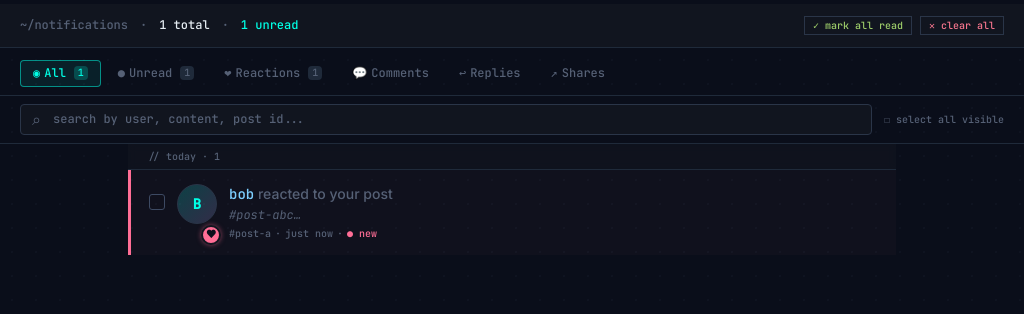
it: NotificationsPage (T-352, FR-14.7-.13) › T-352: empty state (filtered) shows no-match message when items exist but filter hides them
switch to REPLY tab — no REPLY items → filtered empty
Click the button with test id "tab-reply" at (490, 73), box left=446, top=60, right=534, bottom=87
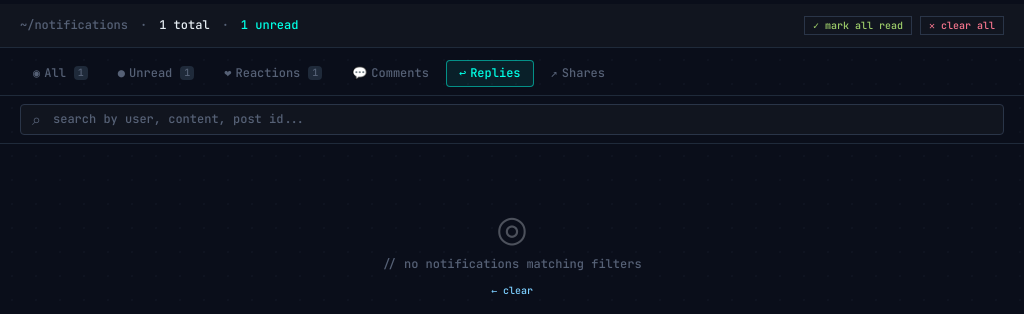
Expected: the element with test id "empty-state-filtered" is shown, left=382, top=206, right=642, bottom=297
Expected: the element with test id "empty-state-filtered" shows "no notifications matching", left=382, top=256, right=642, bottom=272
